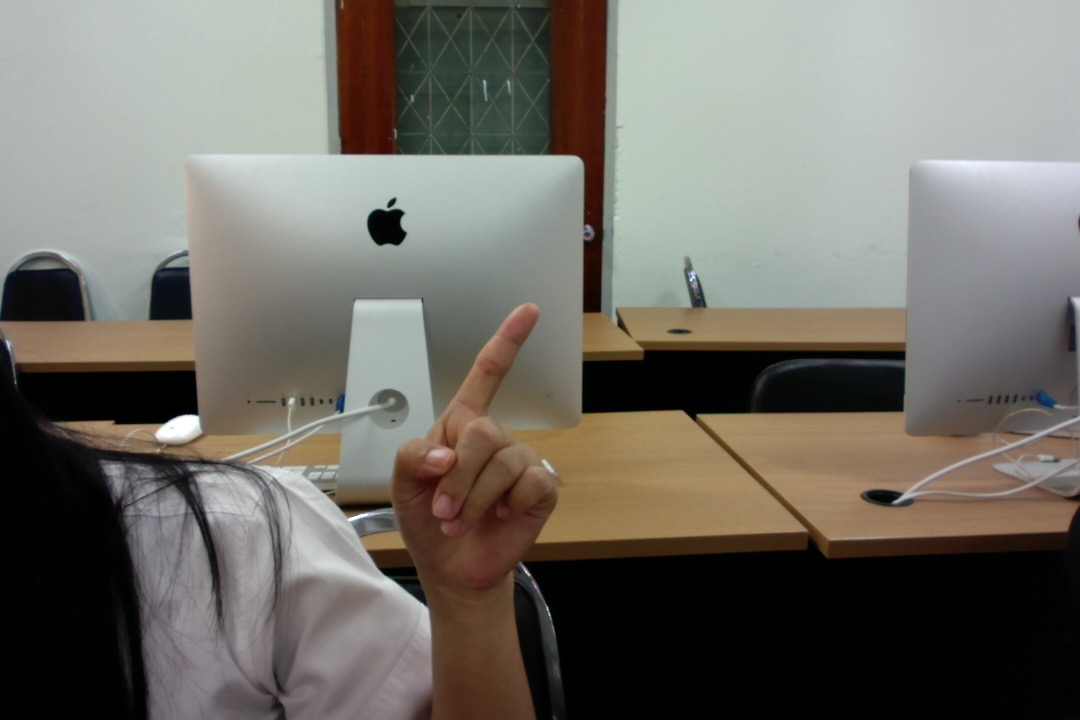dor: (389, 294, 572, 611)
